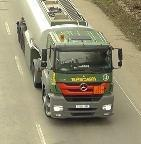Truck: (8, 0, 113, 118)
